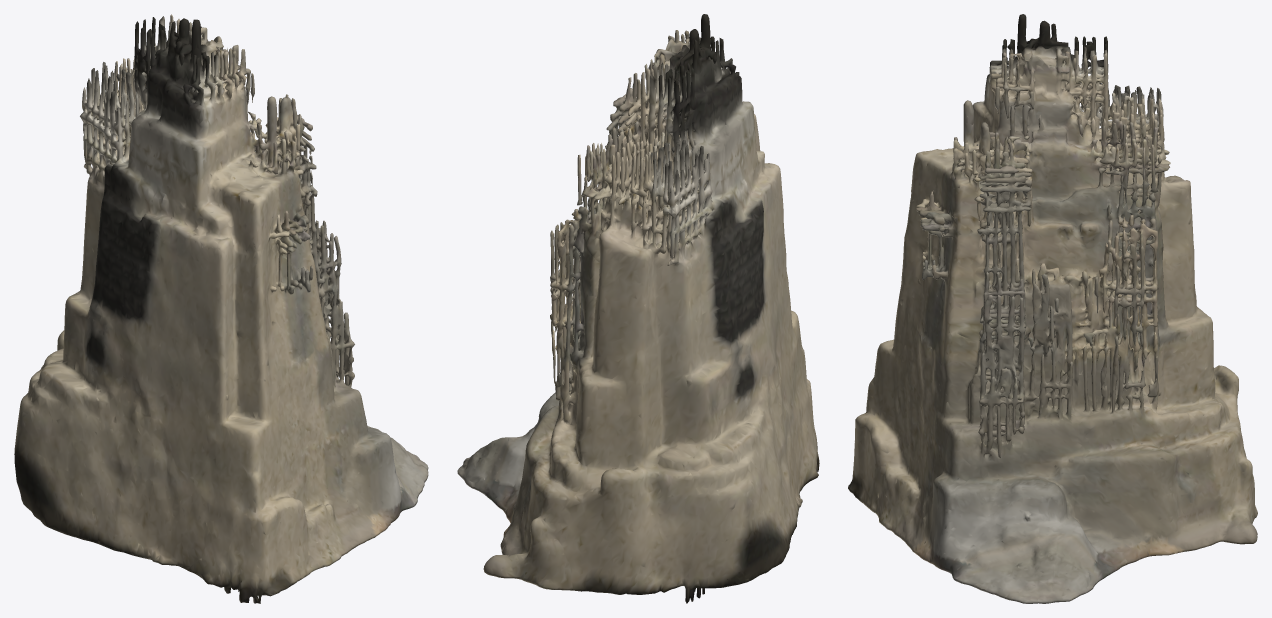
File: tower-of-babel.glb
The picture shows the model from 3 angles, left to right: view 1: azimuth 30°, elevation 25°; view 2: azimuth 150°, elevation 25°; view 3: azimuth 270°, elevation 25°; orthographic projection. The views are drawn at different scales.
Size of the model in its own units: 1.36 by 1.95 by 1.46.
